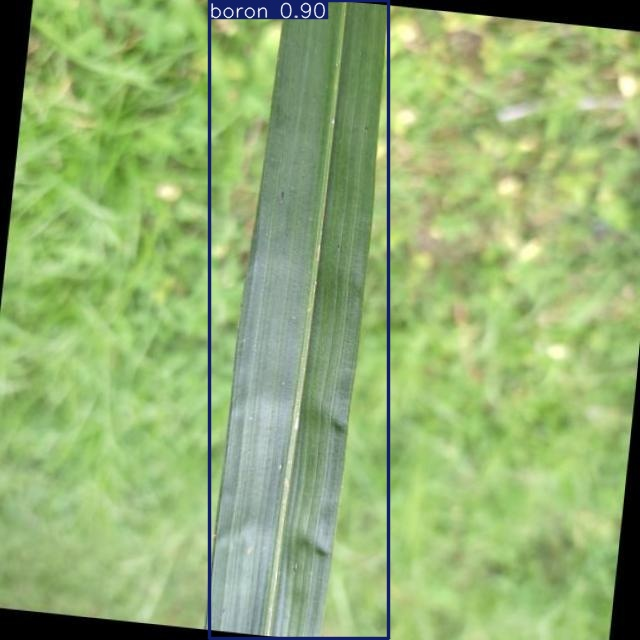nitrogen: (210, 0, 389, 639)
